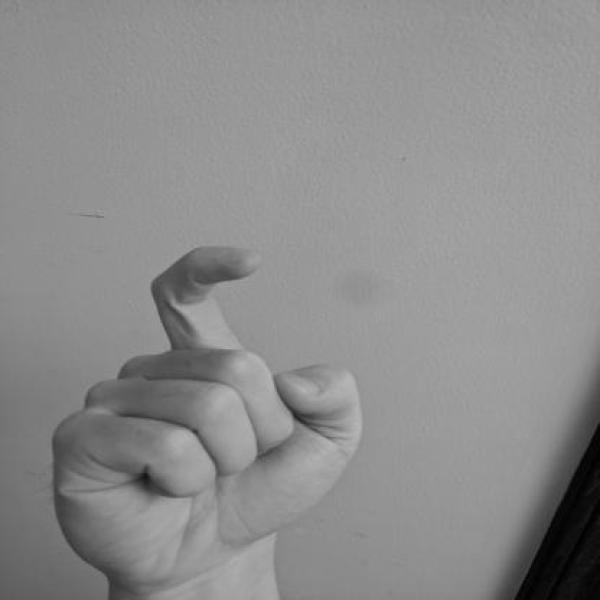X: (46, 242, 369, 584)
